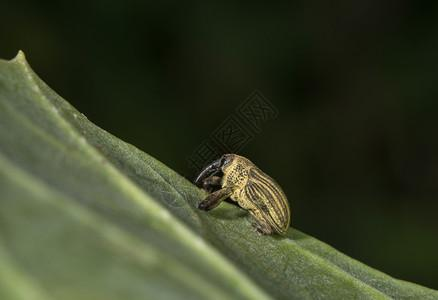Curculionidae: (193, 153, 291, 237)
